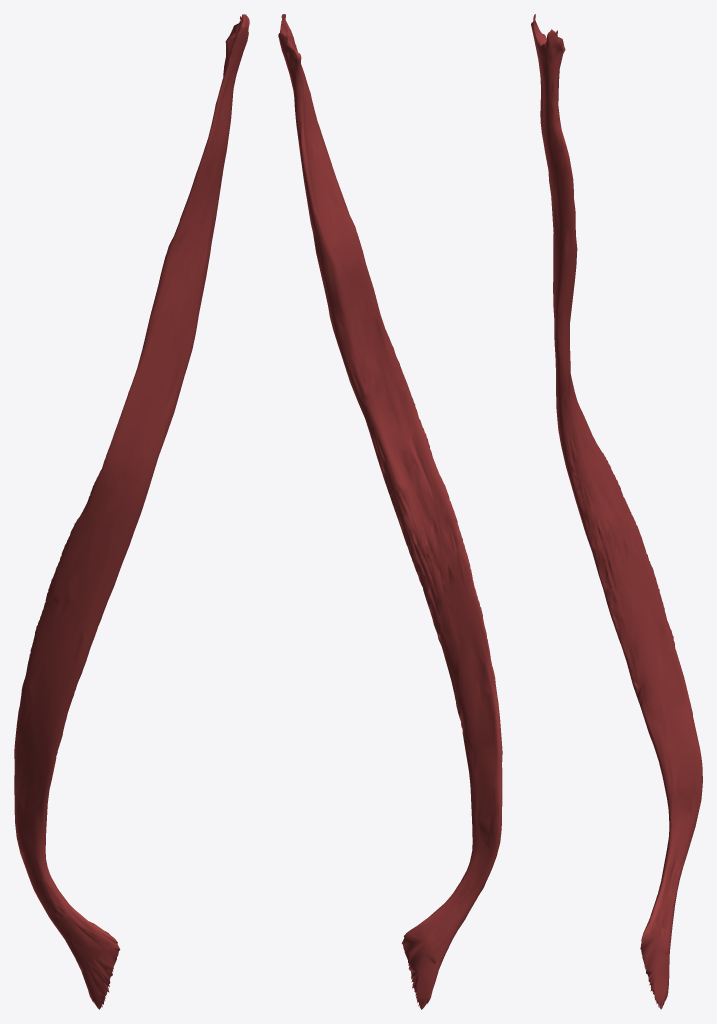
The model's file is sartorius-muscle-l.glb.
3 renders of one model, left to right at view 1: azimuth 30°, elevation 25°; view 2: azimuth 210°, elevation 25°; view 3: azimuth 270°, elevation 25°, orthographic. The views are drawn at different scales.
Visible parts, largest first — view 1: Sartorius muscle.l; view 2: Sartorius muscle.l; view 3: Sartorius muscle.l.
Part boxes in pixels (x1,y1,x2,y2): Sartorius muscle.l: [14, 14, 249, 1009]; Sartorius muscle.l: [278, 14, 502, 1009]; Sartorius muscle.l: [531, 14, 702, 1009].
Bounding box in the file's own units: 0.1032 × 0.5992 × 0.0901.
